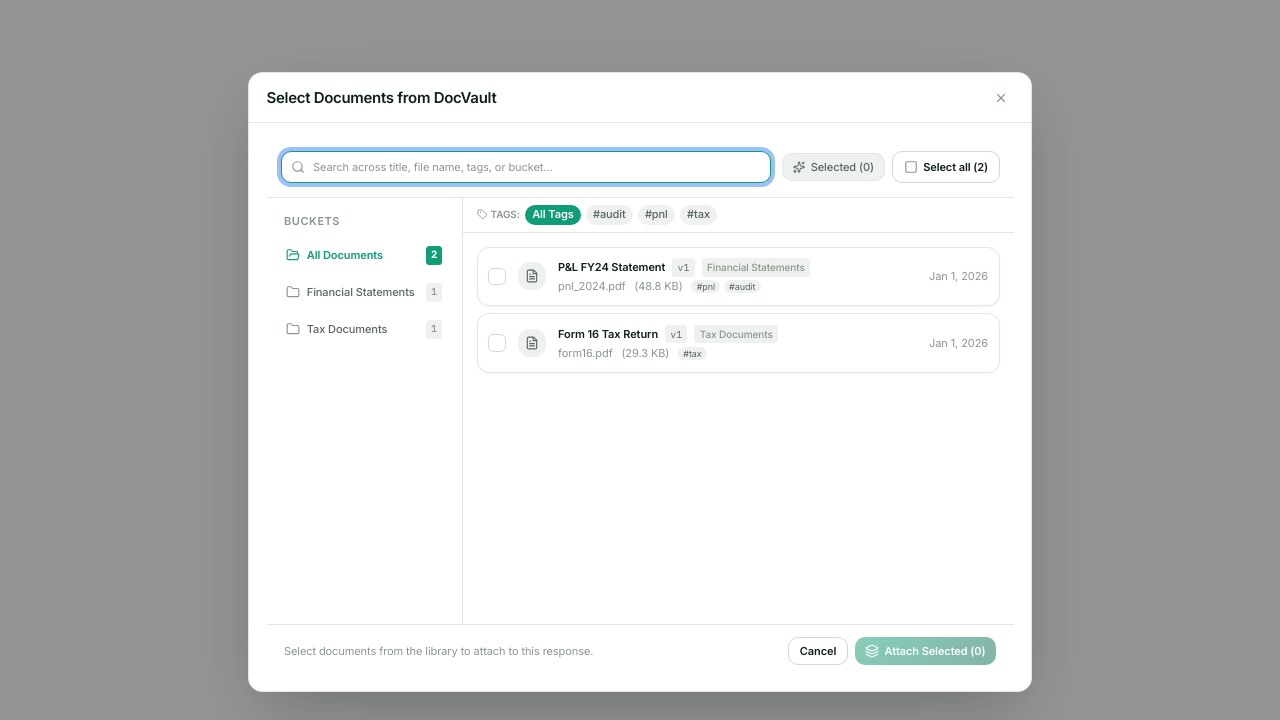
Test: DocVaultPickerModal › filters documents by clicking tag pills
The image size is (1280, 720).
expect the text "P&L FY24 Statement" is shown: met, box [558,259,665,275]
Click the button "#tax" at {"x": 698, "y": 214}, box [680,204,717,224]
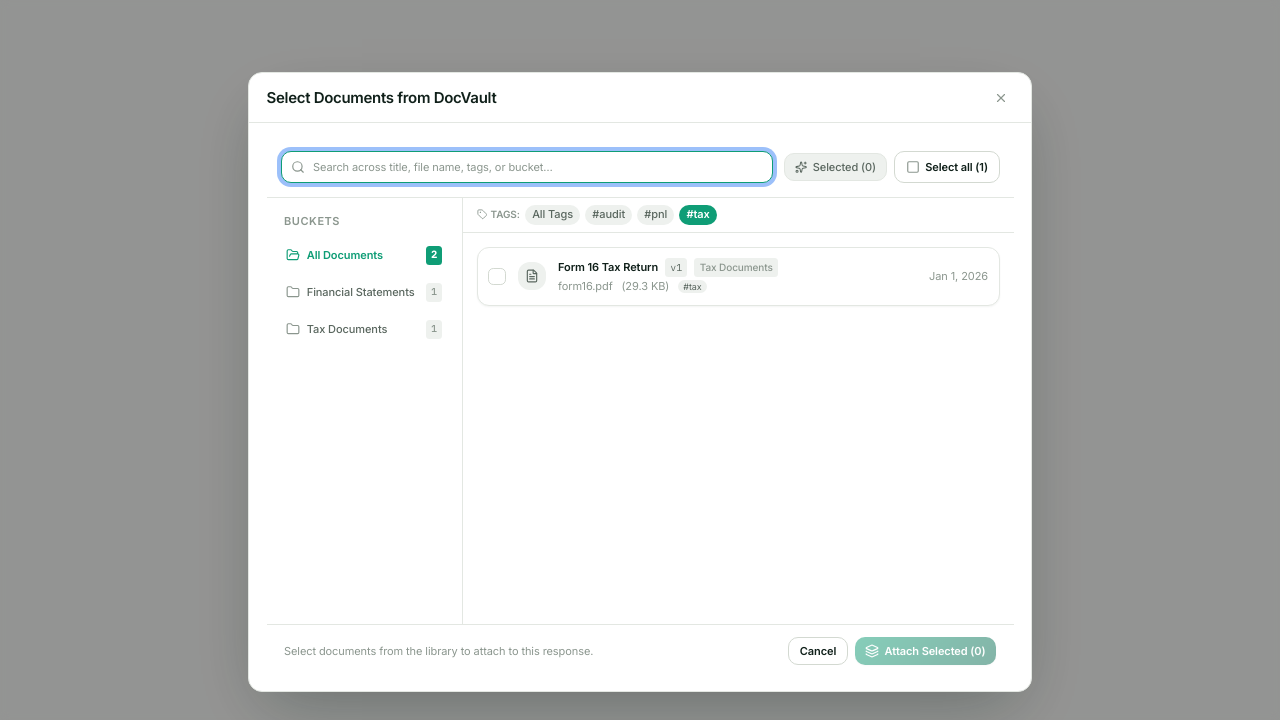
expect the text "Form 16 Tax Return" is shown: met, box [558,259,658,275]
expect the text "P&L FY24 Statement" is gone: met
